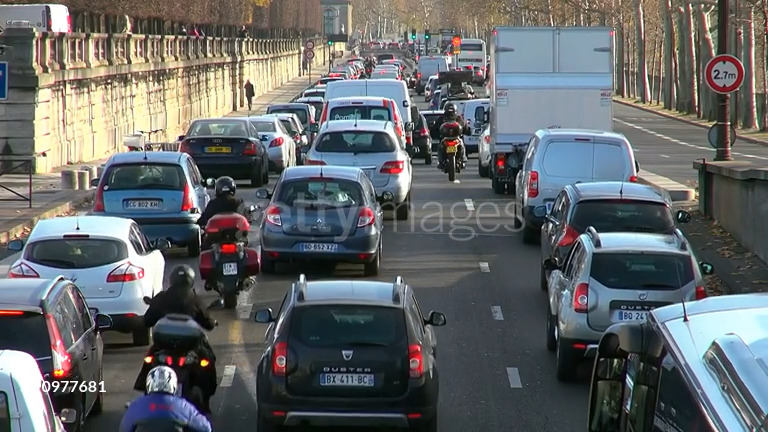car_number: (320, 373, 373, 386), (612, 310, 648, 321), (125, 200, 159, 208)
